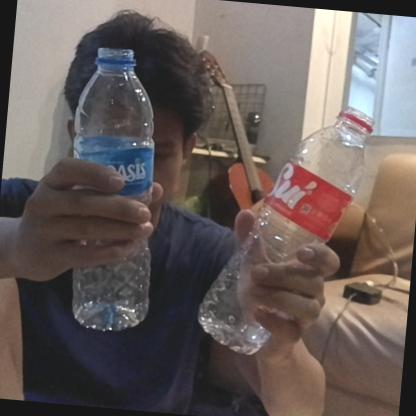plastic_bottles: (194, 96, 377, 365), (55, 41, 172, 336)
